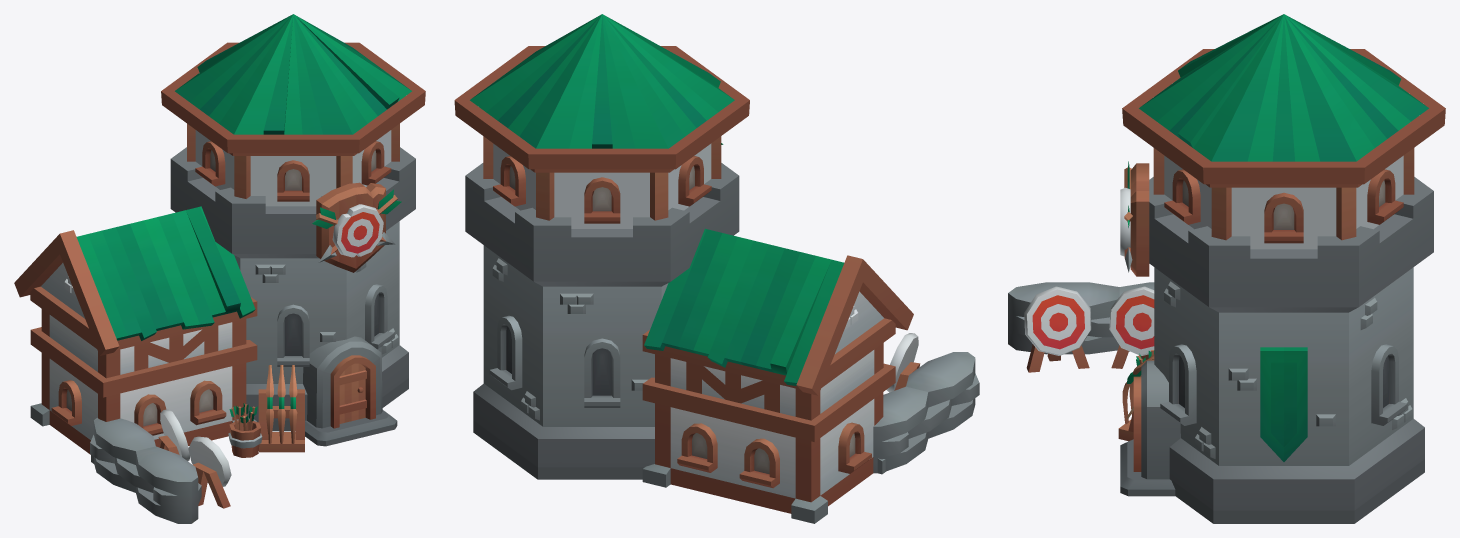
The model's file is kay-campo-arqueiros-verde.gltf.
3 renders of one model, left to right at view 1: azimuth 30°, elevation 25°; view 2: azimuth 150°, elevation 25°; view 3: azimuth 270°, elevation 25°, orthographic. The views are drawn at different scales.
Parts seen in each view (by area): view 1: building_archeryrange_green; view 2: building_archeryrange_green; view 3: building_archeryrange_green.
Part boxes in pixels (left/top/right/bottom): building_archeryrange_green: left=14, top=14, right=425, bottom=523; building_archeryrange_green: left=454, top=14, right=979, bottom=523; building_archeryrange_green: left=1008, top=14, right=1445, bottom=523.
Bounding box in the file's own units: 8.35 × 8.96 × 7.75.
Materials: 1 (1 with a texture image).
